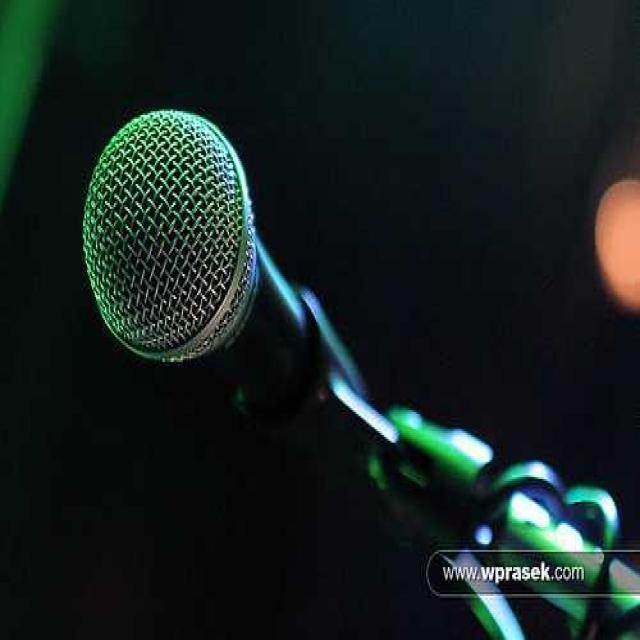microphone: (85, 103, 353, 431)
